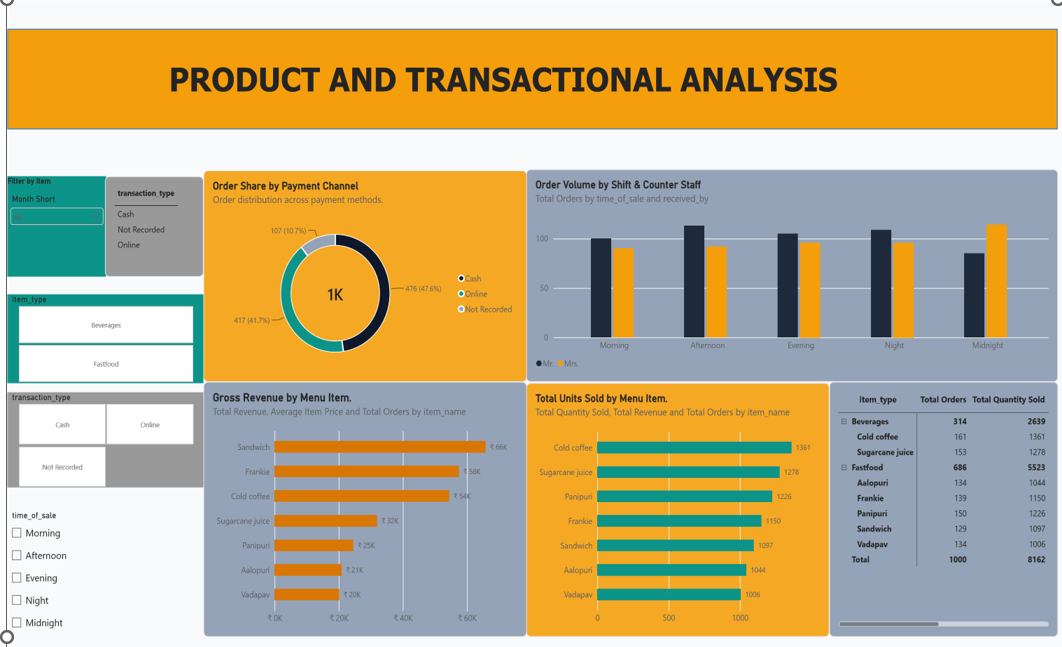

The dashboard page shown, as its layout file describes it:
{"tool":"powerbi","page":{"name":"Product and Transaction Analysis","canvas":[1920,1080],"ordinal":1},"visuals":[{"type":"slicer","title":"Filter by Item","fields":{"Values":["Dim_Date.Month Short"]},"box":[0,300,180,170],"z":0},{"type":"slicer","fields":{"Values":["Dim_Product.item_type"]},"box":[0,500,358,150],"z":1000},{"type":"slicer","fields":{"Values":["Balaji_Sales.transaction_type"]},"box":[0,665.7,358.6,161.4],"z":2000},{"type":"slicer","fields":{"Values":["Dim_Shift.time_of_sale"]},"box":[0,865.7,358.6,214.3],"z":3000},{"type":"tableEx","fields":{"Values":["Balaji_Sales.transaction_type"]},"box":[178.6,300,180,170],"z":4000},{"type":"clusteredBarChart","title":"Gross Revenue by Menu Item.","fields":{"Category":["Dim_Product.item_name"],"Y":["_Key_Measures.Total Revenue"]},"box":[358.1,648.4,590.7,432.2],"z":5000},{"type":"clusteredBarChart","title":"Total Units Sold by Menu Item.","fields":{"Category":["Dim_Product.item_name"],"Y":["_Key_Measures.Total Quantity Sold"]},"box":[948.9,650.4,553.7,430.2],"z":6000},{"type":"donutChart","title":"Order Share by Payment Channel","fields":{"Category":["Balaji_Sales.transaction_type"],"Y":["_Key_Measures.Total Orders"]},"box":[358.1,290.2,590.7,358.1],"z":7000},{"type":"clusteredColumnChart","title":"Order Volume by Shift & Counter Staff","fields":{"Category":["Dim_Shift.time_of_sale"],"Series":["Balaji_Sales.received_by"],"Y":["_Key_Measures.Total Orders"]},"box":[948.9,288.2,971.5,360.2],"z":8000},{"type":"pivotTable","fields":{"Rows":["Dim_Product.item_type","Dim_Product.item_name"],"Values":["_Key_Measures.Total Orders","_Key_Measures.Total Quantity Sold","_Key_Measures.Total Revenue","_Key_Measures.Average Order Value"]},"box":[1502.6,648.4,417.8,432.2],"z":9000},{"type":"shape","box":[0,50,1920,170],"z":10000},{"type":"textbox","box":[100,100,1612,86],"z":11000}]}

Visuals, with their boxes on the page's 1920x1080 design canvas (x1, y1, x2, y2). These are canvas units, not pixel positions in the 1062x647 screenshot, which may show the page scaled, cropped or inside an application window:
"Filter by Item" slicer: <box>0,300,180,470</box>
slicer - Dim_Product.item_type: <box>0,500,358,650</box>
slicer - Balaji_Sales.transaction_type: <box>0,666,359,827</box>
slicer - Dim_Shift.time_of_sale: <box>0,866,359,1080</box>
tableEx - Balaji_Sales.transaction_type: <box>179,300,359,470</box>
"Gross Revenue by Menu Item." clusteredBarChart: <box>358,648,949,1081</box>
"Total Units Sold by Menu Item." clusteredBarChart: <box>949,650,1503,1081</box>
"Order Share by Payment Channel" donutChart: <box>358,290,949,648</box>
"Order Volume by Shift & Counter Staff" clusteredColumnChart: <box>949,288,1920,648</box>
pivotTable - Dim_Product.item_type x Dim_Product.item_name: <box>1503,648,1920,1081</box>
shape: <box>0,50,1920,220</box>
textbox: <box>100,100,1712,186</box>
